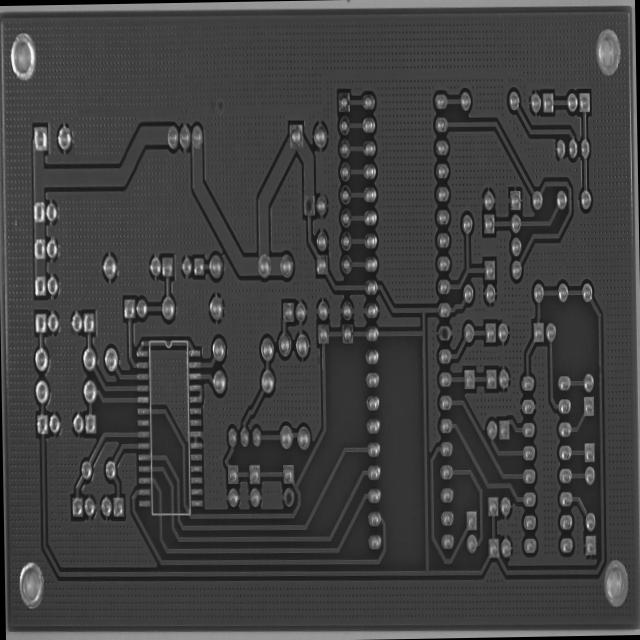missing_hole: (436, 320, 452, 344), (282, 486, 296, 512), (303, 194, 315, 218)
